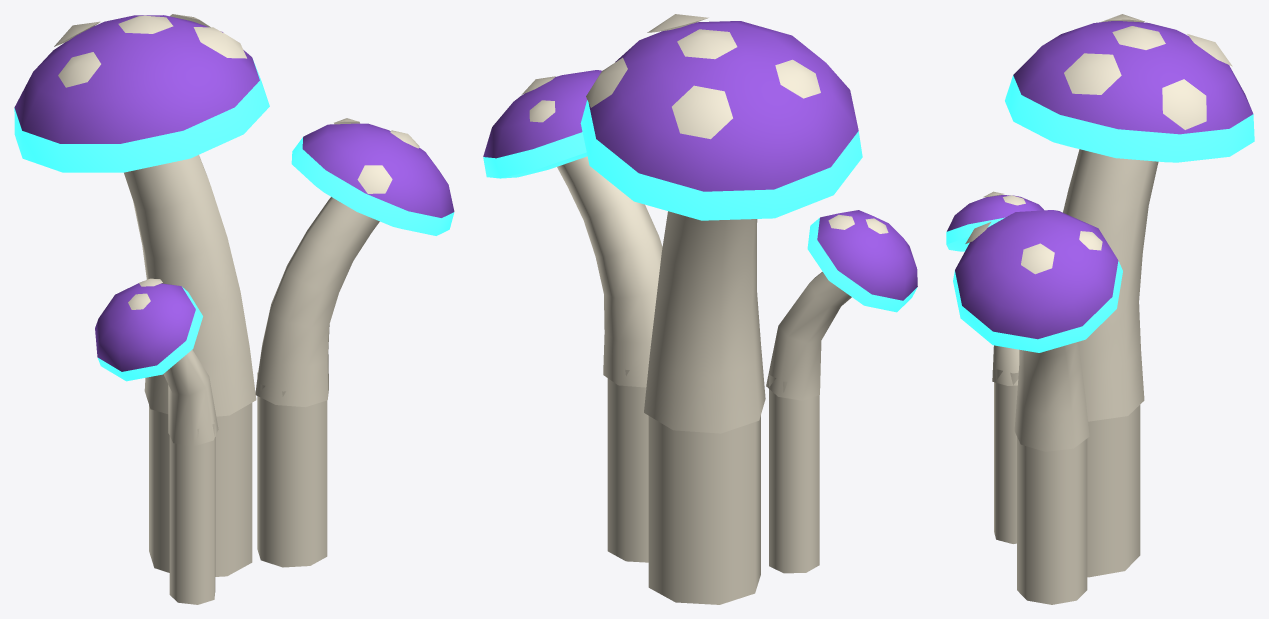
File: mushroom_cluster.glb
3 renders of one model, left to right at view 1: azimuth 30°, elevation 25°; view 2: azimuth 150°, elevation 25°; view 3: azimuth 270°, elevation 25°, orthographic. The views are drawn at different scales.
Visible parts, largest first — view 1: mushroom_cluster; view 2: mushroom_cluster; view 3: mushroom_cluster.
Part boxes in pixels (x1,y1,x2,y2): mushroom_cluster: (14,14,454,604); mushroom_cluster: (483,14,917,604); mushroom_cluster: (946,14,1254,604).
Bounding box in the file's own units: 0.8997 × 1.25 × 0.6796.
